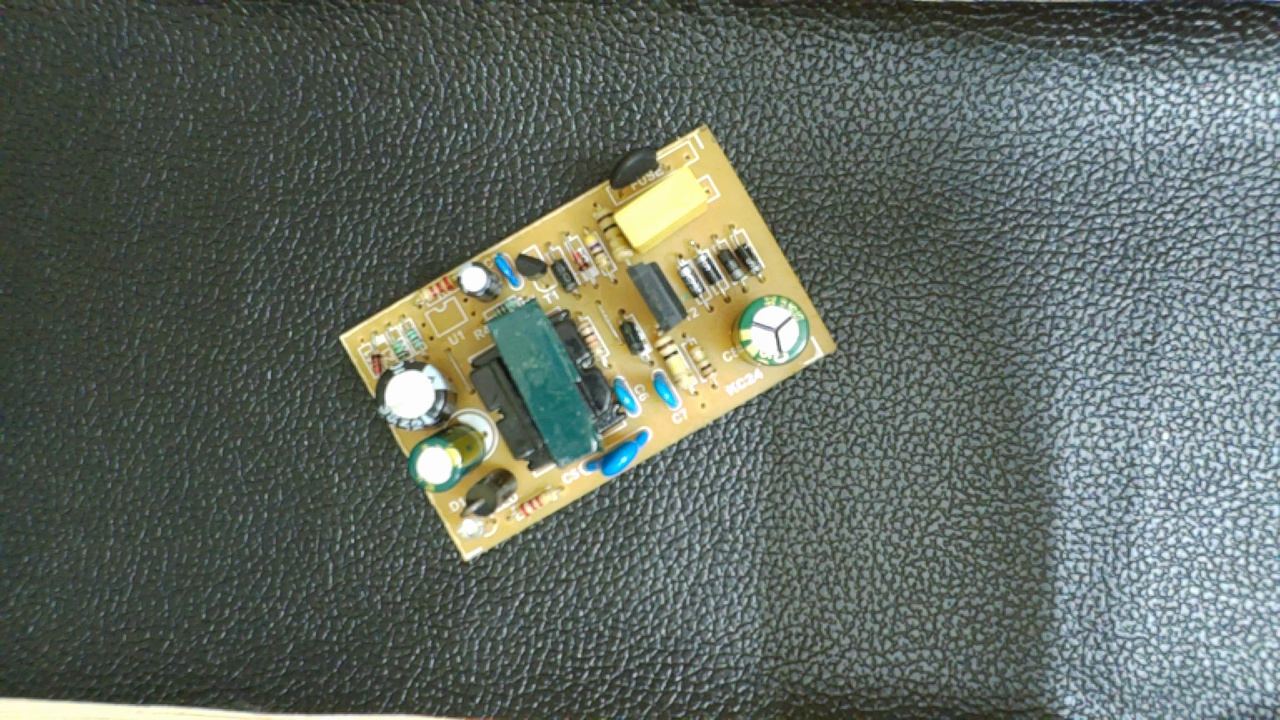fuse: (603, 146, 686, 203)
hv_capacitor: (731, 293, 816, 371)
mov: (582, 426, 656, 483)
